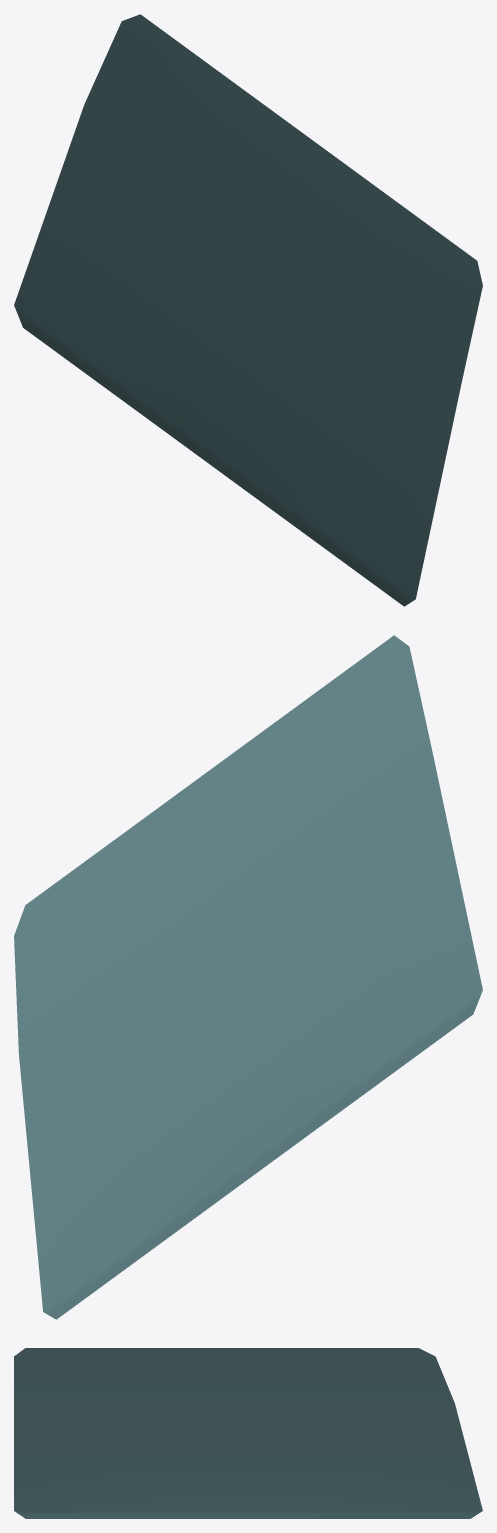
The model's file is Offroad_1_Window_Tessellate_RR.fbx.
3 renders of one model, top to bottom at view 1: azimuth 30°, elevation 25°; view 2: azimuth 150°, elevation 25°; view 3: azimuth 270°, elevation 25°, orthographic. The views are drawn at different scales.
Visible parts, largest first — view 1: Offroad_1_Window_Tessellate_RR; view 2: Offroad_1_Window_Tessellate_RR; view 3: Offroad_1_Window_Tessellate_RR.
Part boxes in pixels (x1,y1,x2,y2): Offroad_1_Window_Tessellate_RR: (14,14,482,606); Offroad_1_Window_Tessellate_RR: (14,635,482,1319); Offroad_1_Window_Tessellate_RR: (14,1348,482,1518).
Bounding box in the file's own units: 7.88 × 33.92 × 75.24.
